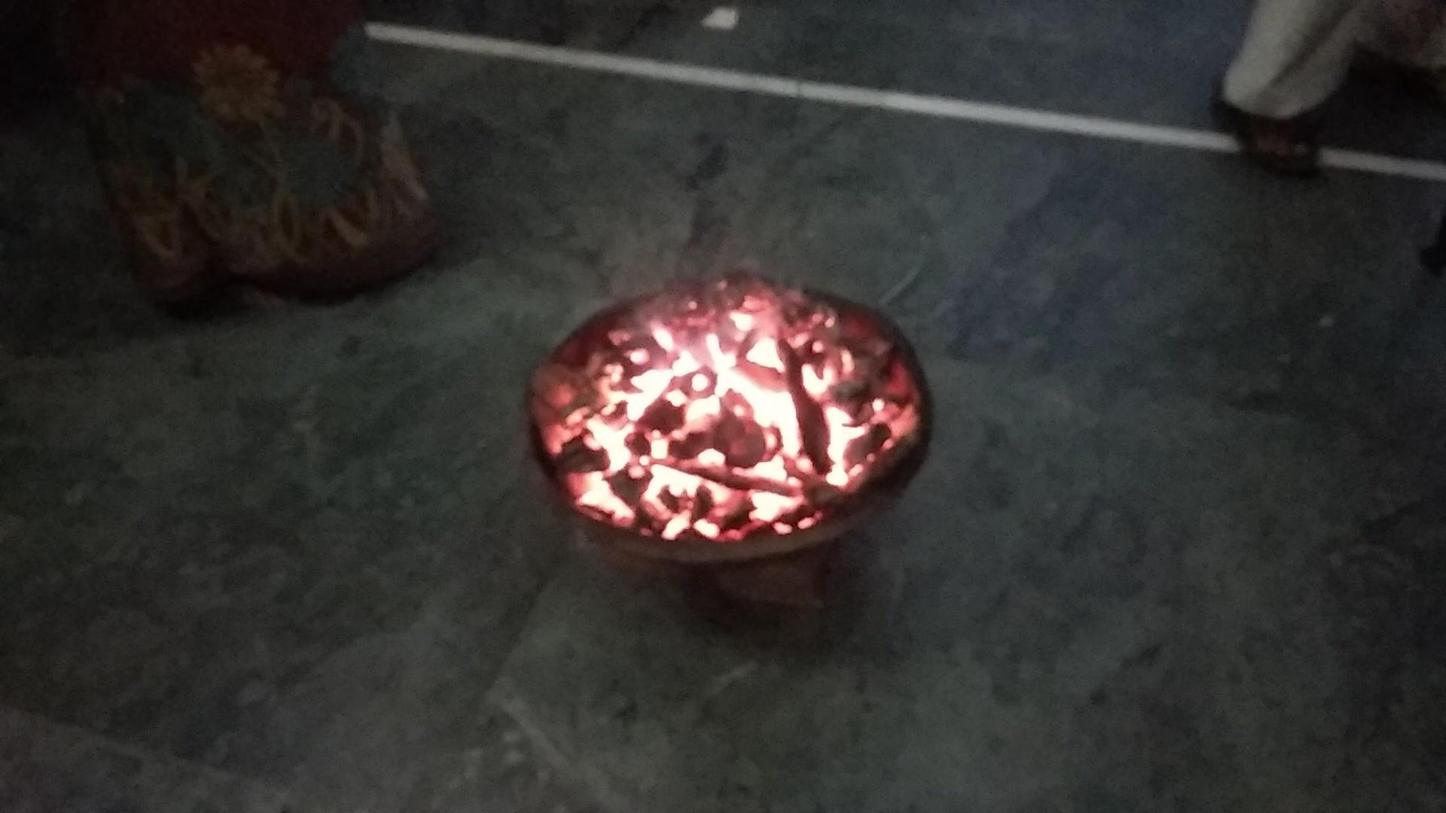fire: (525, 292, 885, 521)
